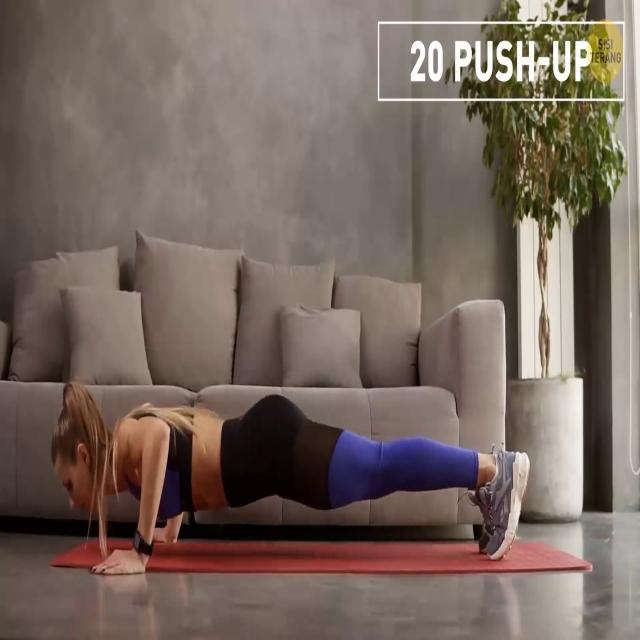Push up: (40, 336, 552, 601)
